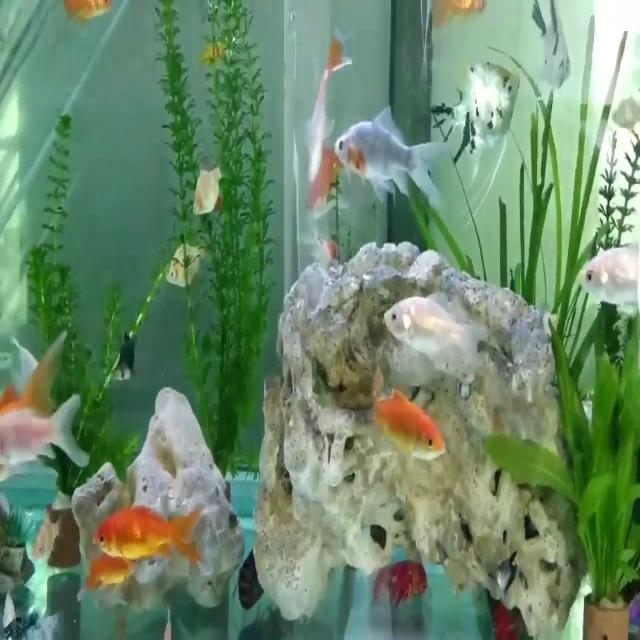GoldFish: (82, 504, 220, 570), (366, 369, 450, 468)
